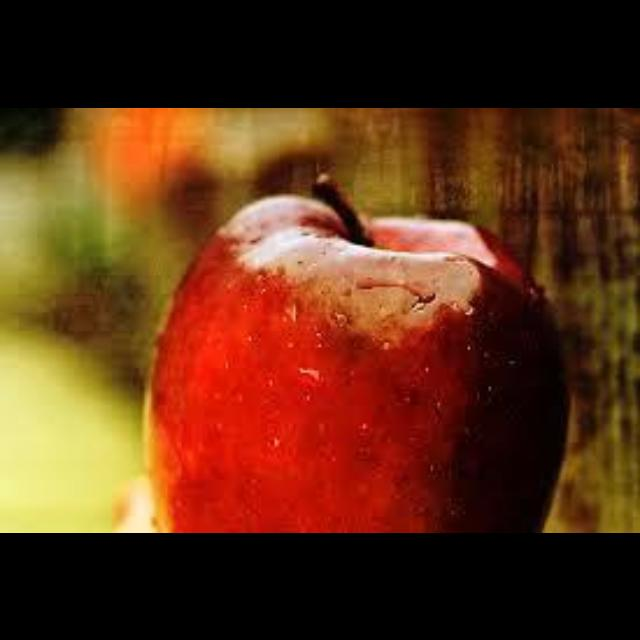apple: (147, 174, 566, 531)
rotten: (240, 227, 483, 349)
